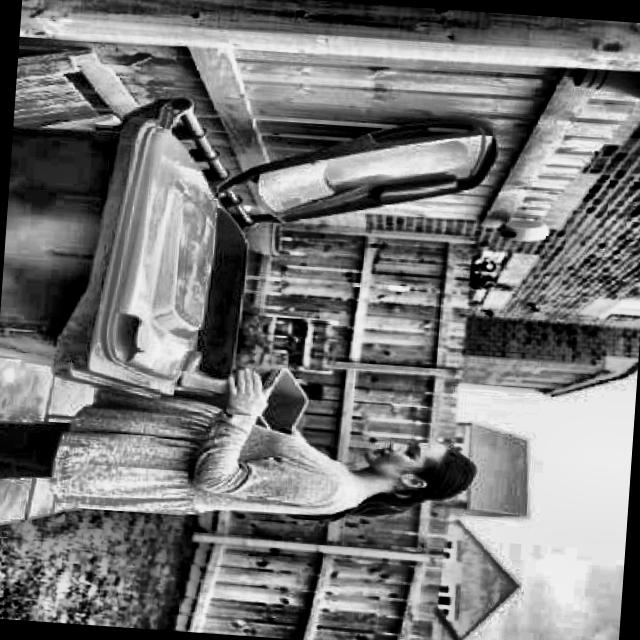Dustbin: (0, 80, 262, 405)
